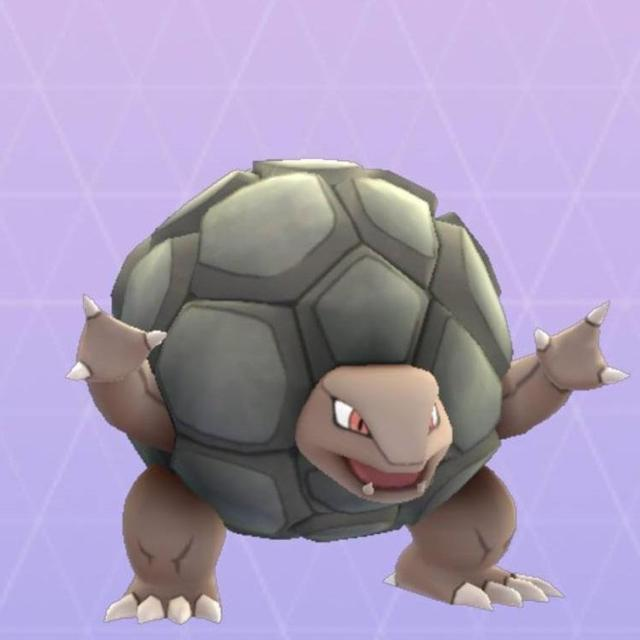Golem: (54, 152, 542, 623)
